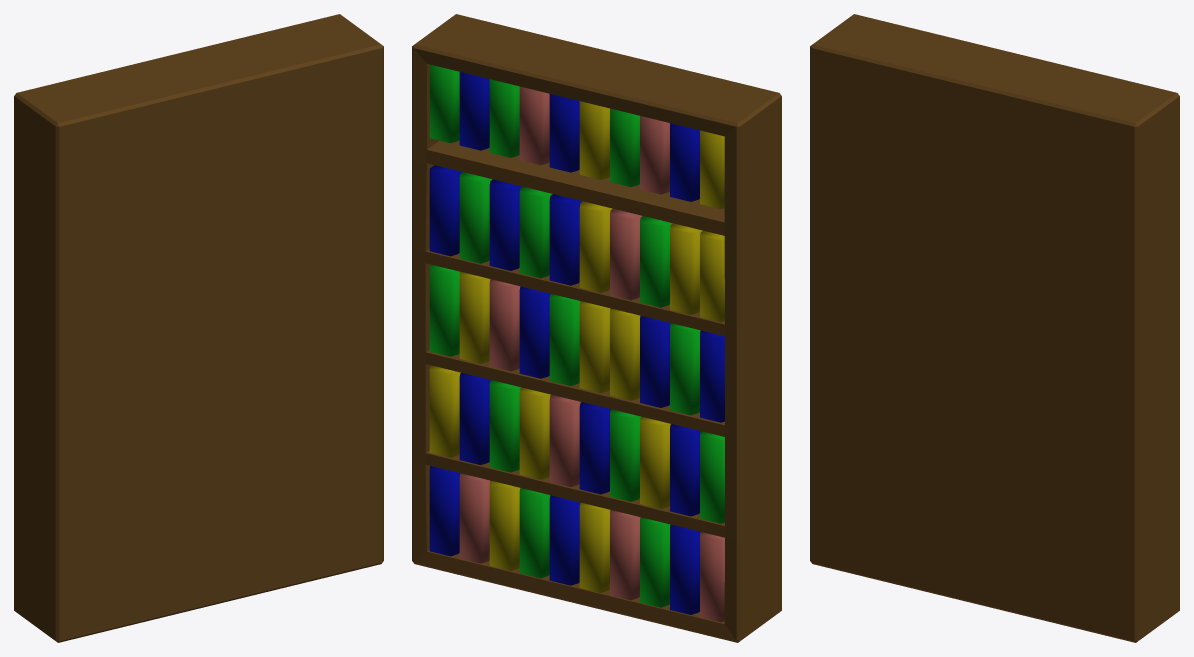
Rendered from Estanteria con libros.fbx.
3 renders of one model, left to right at view 1: azimuth 30°, elevation 25°; view 2: azimuth 150°, elevation 25°; view 3: azimuth 330°, elevation 25°, orthographic.
Parts seen in each view (by area): view 1: Estante.004; view 2: Estante.004; view 3: Estante.004.
Boxes of the visible parts, <box> form: Estante.004: <box>14,14,383,642</box>; Estante.004: <box>412,14,781,642</box>; Estante.004: <box>810,14,1179,642</box>.
Size of the model in its own units: 129 by 195 by 30.01.
